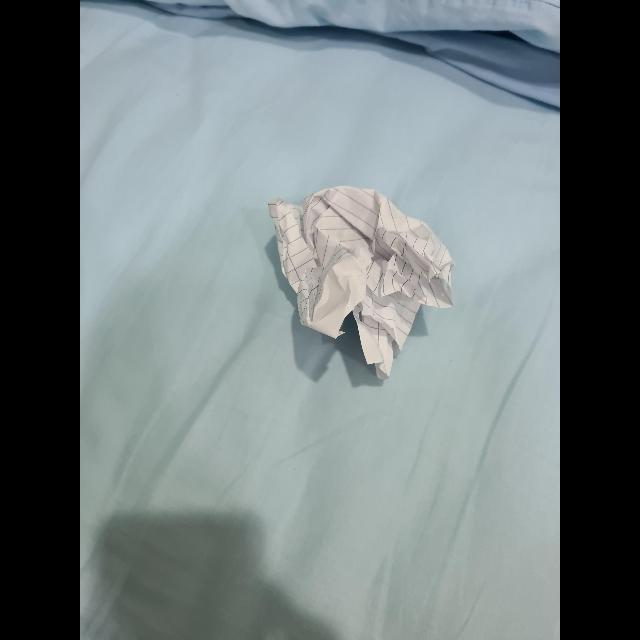scrap_paper: (274, 182, 460, 368)
